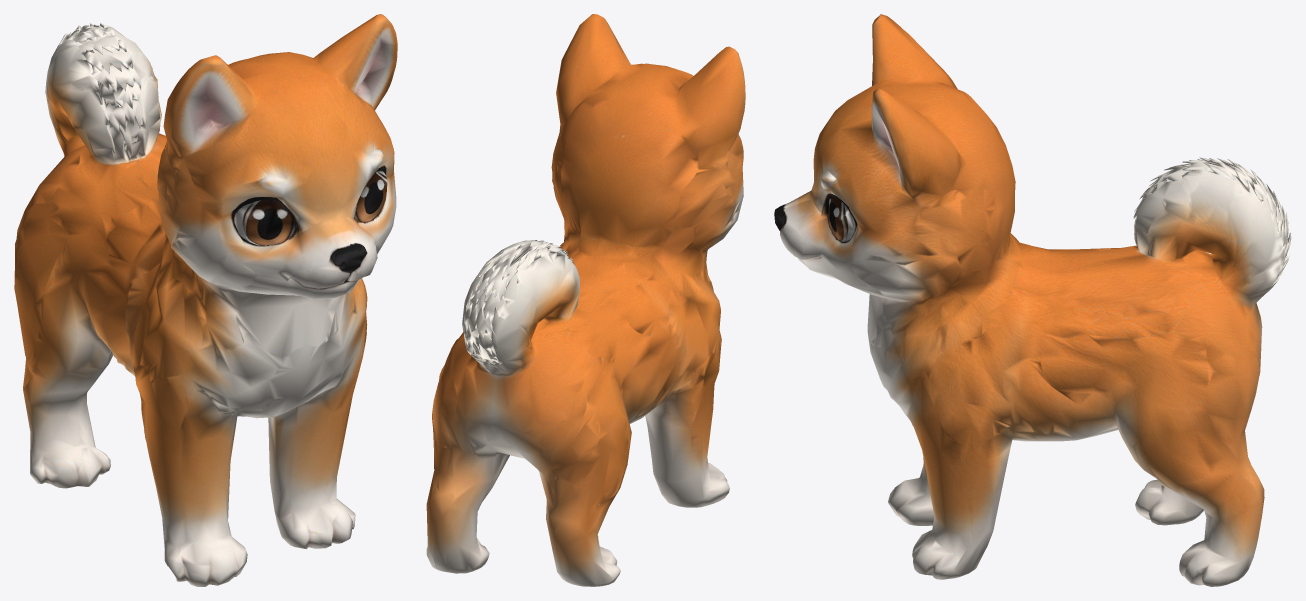
File: shiba.glb
3 renders of one model, left to right at view 1: azimuth 30°, elevation 25°; view 2: azimuth 150°, elevation 25°; view 3: azimuth 270°, elevation 25°, orthographic. The views are drawn at different scales.
Visible parts, largest first — view 1: pet; view 2: pet; view 3: pet.
Boxes of the visible parts, box(x1,y1,x2,y2) form: pet: box(14, 14, 397, 586); pet: box(426, 14, 745, 586); pet: box(774, 14, 1291, 586).
Size of the model in its own units: 0.4297 by 1 by 0.9544.
1 material, 1 textured.
